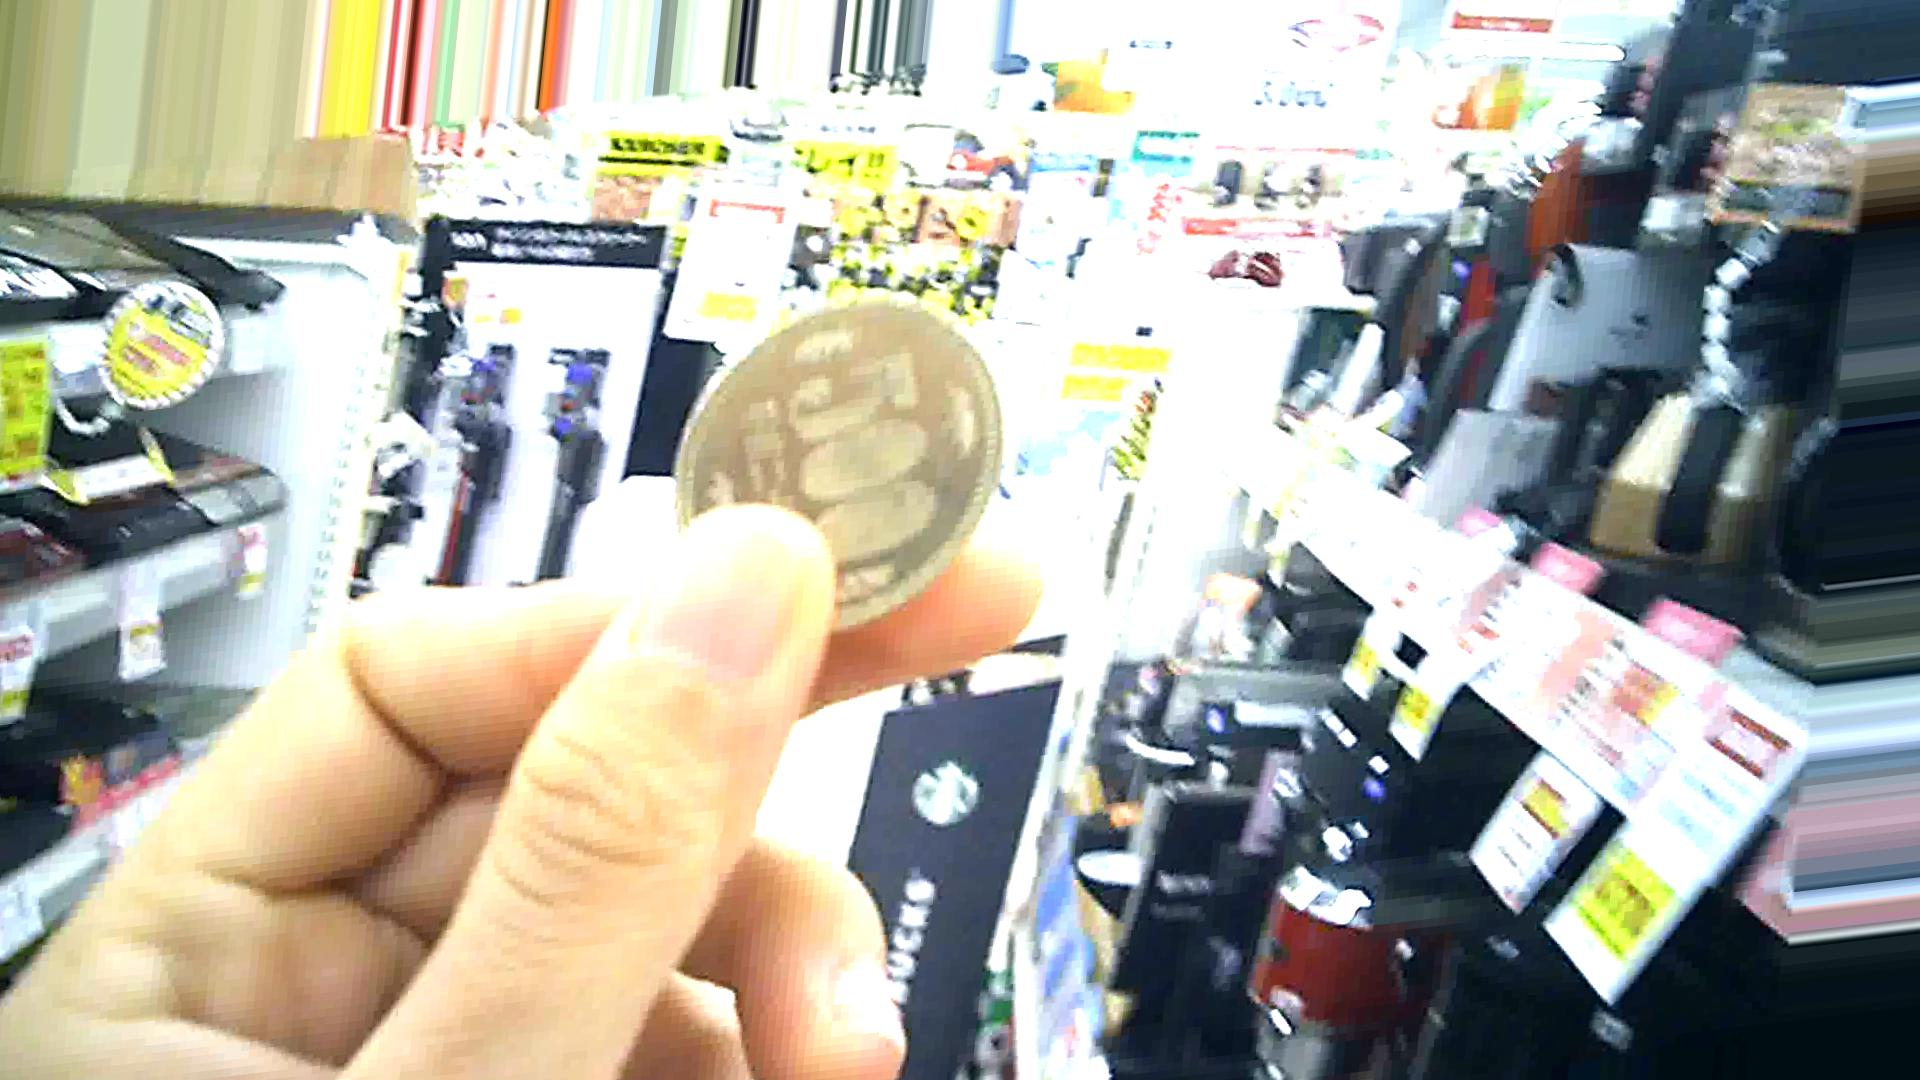500 Yen: (669, 299, 1029, 647)
